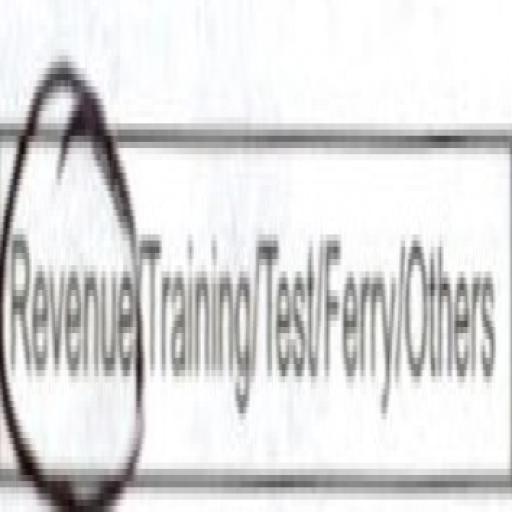check: (0, 56, 136, 499)
